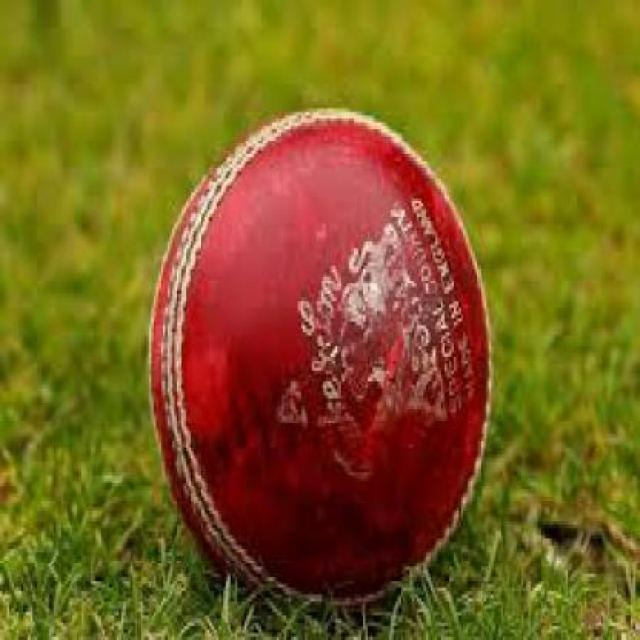ball: (133, 83, 522, 640)
